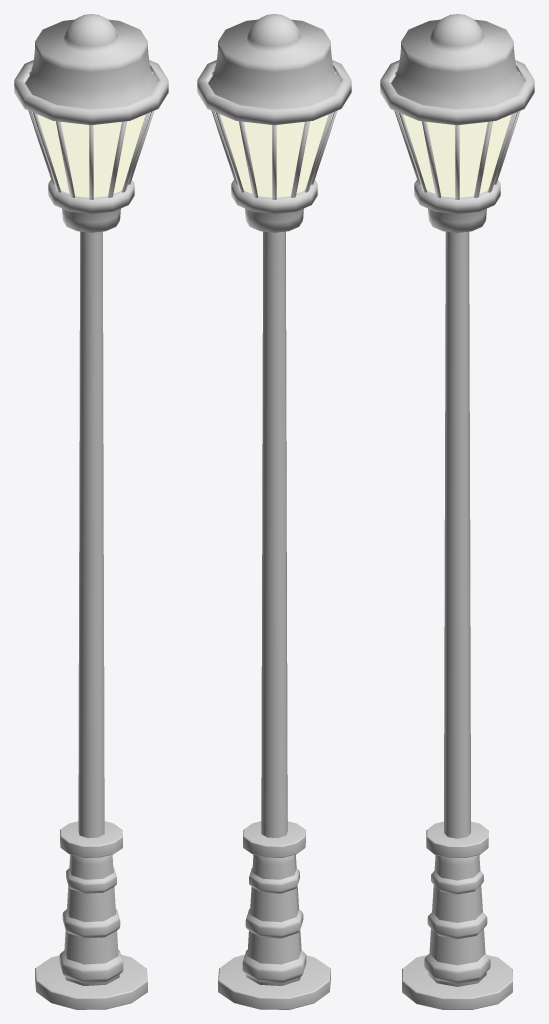
File: lampPost1.fbx
3 renders of one model, left to right at view 1: azimuth 30°, elevation 25°; view 2: azimuth 150°, elevation 25°; view 3: azimuth 270°, elevation 25°, orthographic.
Parts seen in each view (by area): view 1: Post.002; view 2: Post.002; view 3: Post.002.
Part boxes in pixels (x1,y1,x2,y2): Post.002: [14, 14, 168, 1009]; Post.002: [197, 14, 351, 1009]; Post.002: [380, 14, 534, 1009].
Bounding box in the file's own units: 84.66 × 586 × 84.66.
